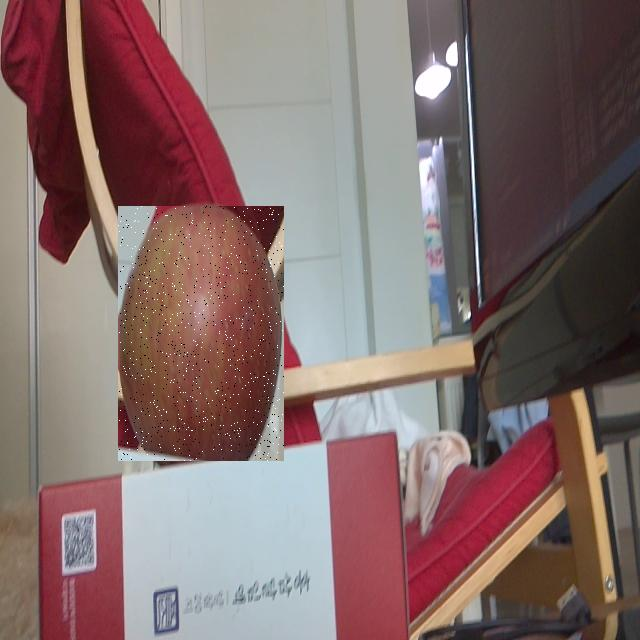apple: (118, 206, 284, 461)
